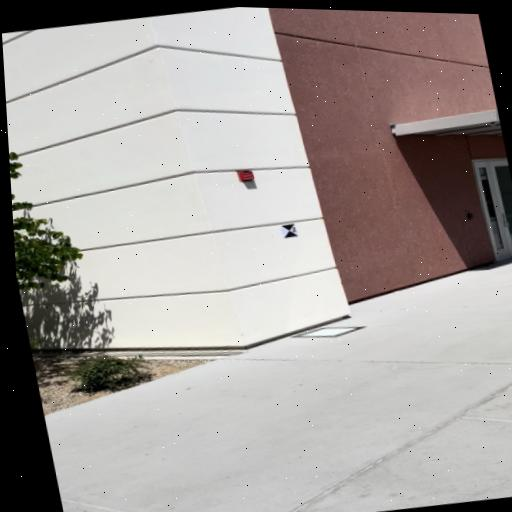target2: (282, 224, 298, 238)
